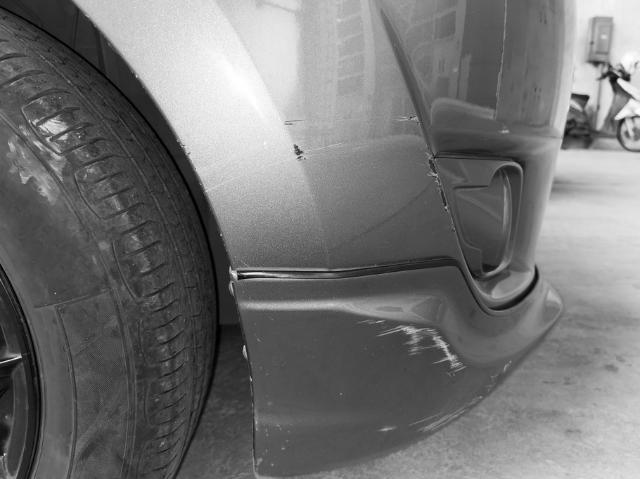Bumper: (233, 260, 640, 437)
Fender: (332, 67, 577, 288)
